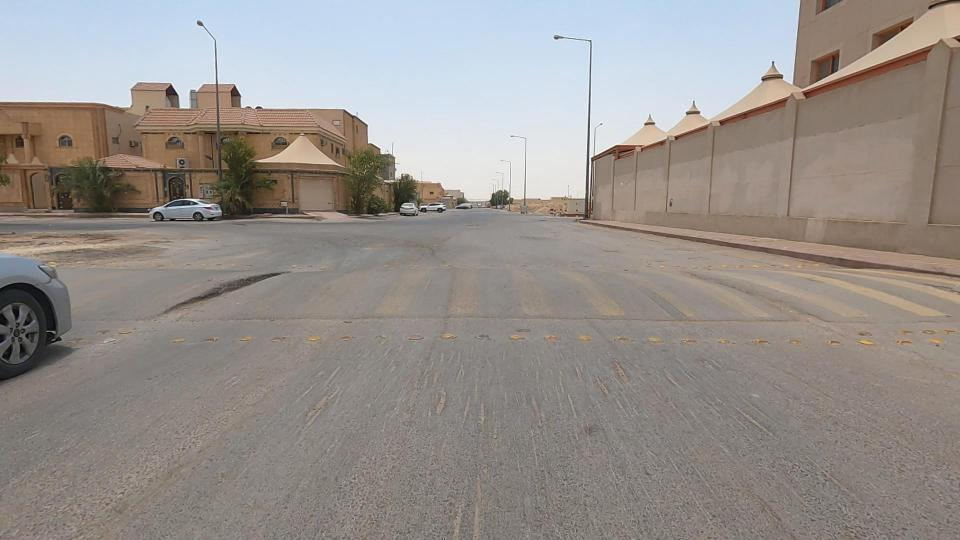POTHOLES: (368, 211, 478, 286)
